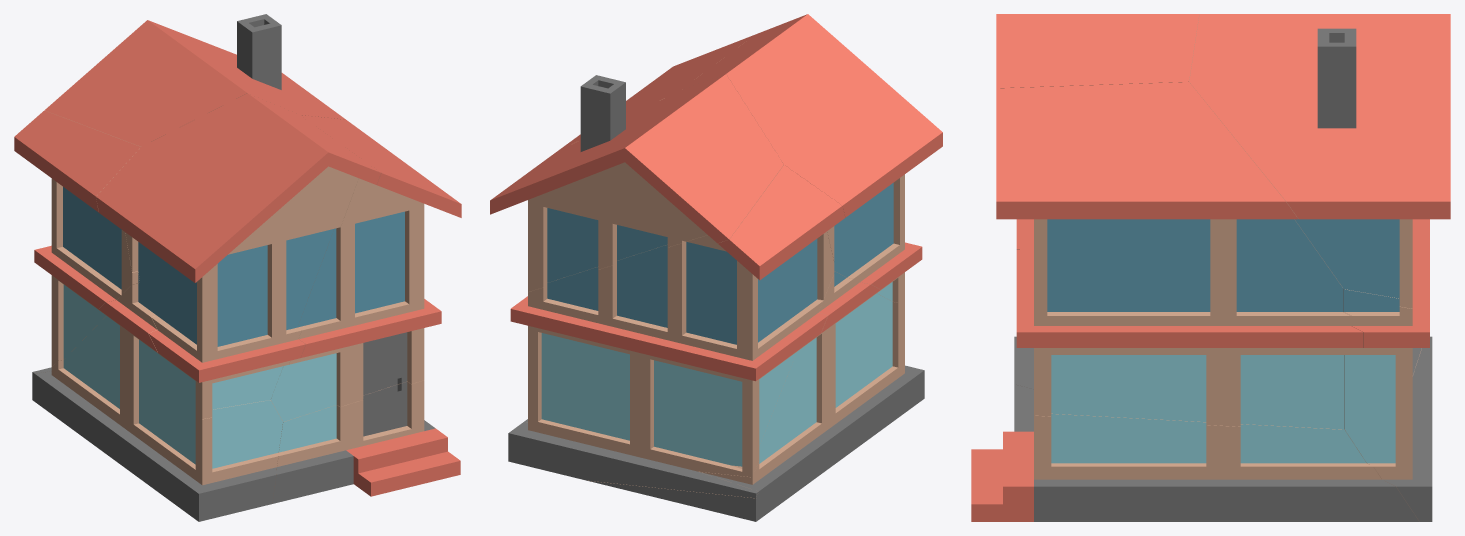
File: House 1.5 Fractured.fbx
The picture shows the model from 3 angles, left to right: view 1: azimuth 30°, elevation 25°; view 2: azimuth 150°, elevation 25°; view 3: azimuth 270°, elevation 25°; orthographic projection. The views are drawn at different scales.
Parts seen in each view (by area): view 1: House_Type1_5_Breaking_cell.005, House_Type1_5_Breaking_cell.003, House_Type1_5_Breaking_cell.001, House_Type1_5_Breaking_cell.002, House_Type1_5_Breaking_cell.004, House_Type1_5_Breaking_cell; view 2: House_Type1_5_Breaking_cell.004, House_Type1_5_Breaking_cell.002, House_Type1_5_Breaking_cell.005, House_Type1_5_Breaking_cell.003, House_Type1_5_Breaking_cell.001; view 3: House_Type1_5_Breaking_cell.001, House_Type1_5_Breaking_cell.002, House_Type1_5_Breaking_cell, House_Type1_5_Breaking_cell.004, House_Type1_5_Breaking_cell.005, House_Type1_5_Breaking_cell.003.
Boxes of the visible parts, x1=… form: House_Type1_5_Breaking_cell.005: x1=96, y1=93, x2=380, y2=418; House_Type1_5_Breaking_cell.003: x1=32, y1=282, x2=282, y2=521; House_Type1_5_Breaking_cell.001: x1=271, y1=115, x2=461, y2=421; House_Type1_5_Breaking_cell.002: x1=44, y1=14, x2=345, y2=146; House_Type1_5_Breaking_cell.004: x1=14, y1=110, x2=140, y2=376; House_Type1_5_Breaking_cell: x1=272, y1=380, x2=460, y2=503; House_Type1_5_Breaking_cell.004: x1=508, y1=165, x2=845, y2=498; House_Type1_5_Breaking_cell.002: x1=490, y1=74, x2=783, y2=291; House_Type1_5_Breaking_cell.005: x1=682, y1=14, x2=942, y2=305; House_Type1_5_Breaking_cell.003: x1=587, y1=271, x2=924, y2=521; House_Type1_5_Breaking_cell.001: x1=557, y1=35, x2=753, y2=151; House_Type1_5_Breaking_cell.001: x1=996, y1=82, x2=1363, y2=429; House_Type1_5_Breaking_cell.002: x1=1189, y1=14, x2=1450, y2=308; House_Type1_5_Breaking_cell: x1=971, y1=384, x2=1418, y2=521; House_Type1_5_Breaking_cell.004: x1=1343, y1=219, x2=1432, y2=521; House_Type1_5_Breaking_cell.005: x1=996, y1=14, x2=1199, y2=249; House_Type1_5_Breaking_cell.003: x1=1014, y1=336, x2=1421, y2=389.
Bounding box in the file's own units: 397 × 510 × 492.
